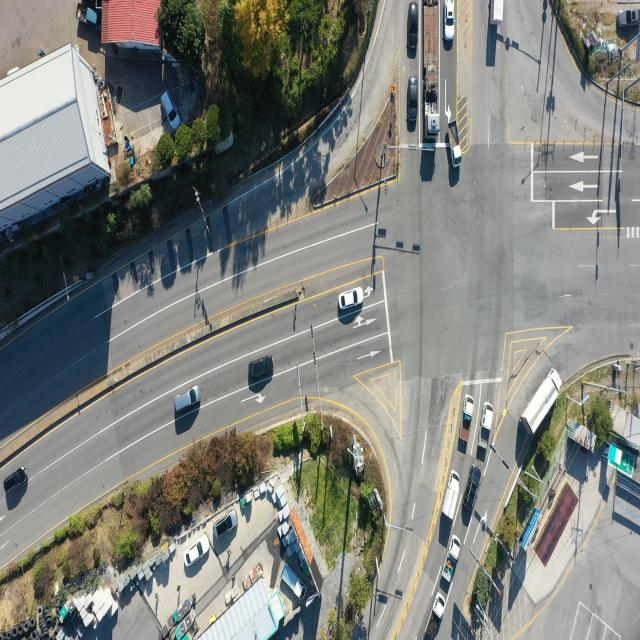car: (162, 91, 182, 131), (183, 536, 208, 568), (467, 467, 484, 511), (173, 386, 200, 413), (3, 470, 27, 496), (250, 356, 276, 380), (215, 512, 237, 540), (339, 288, 364, 310), (410, 78, 420, 132), (410, 2, 420, 55), (617, 8, 640, 26), (446, 2, 456, 42)
large_truck: (420, 0, 442, 137)
medium_truck: (524, 368, 564, 438)
small_truck: (439, 470, 460, 522), (280, 564, 306, 599), (459, 395, 474, 454), (445, 121, 461, 167), (442, 536, 460, 576), (429, 595, 445, 640), (73, 5, 101, 30), (480, 402, 494, 448), (490, 0, 502, 24)
